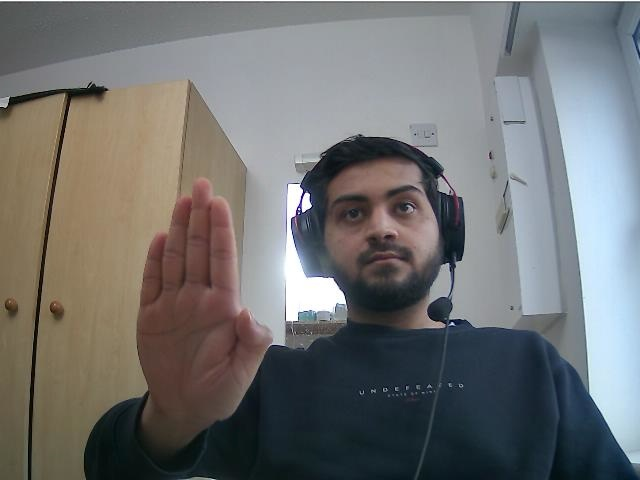up: (135, 178, 277, 416)
